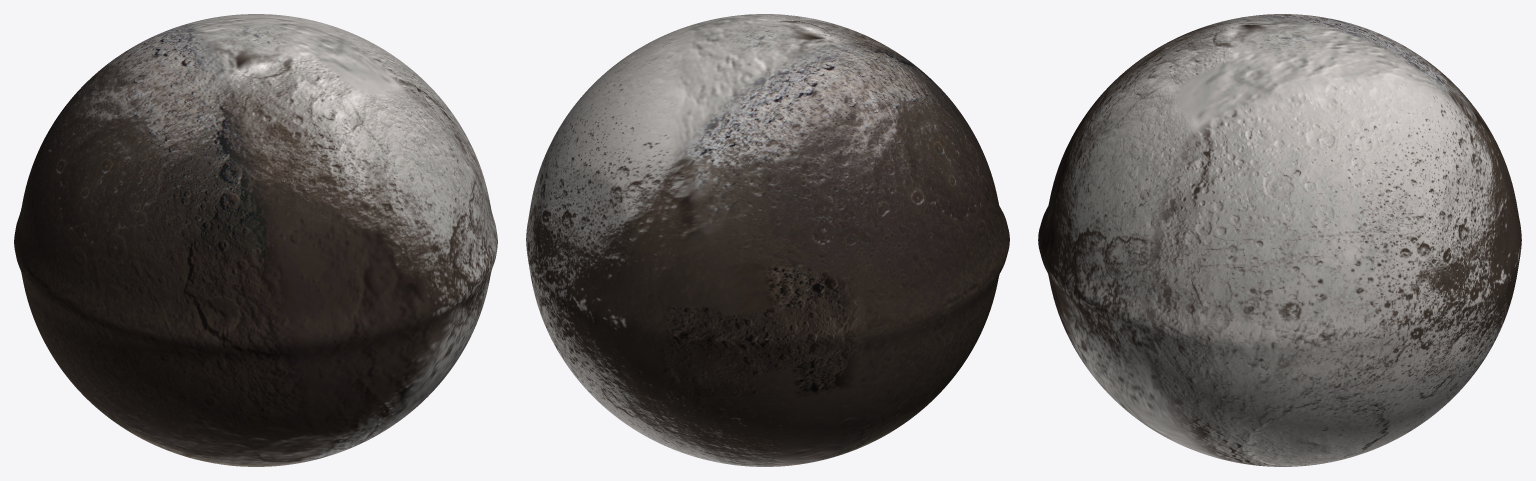
Rendered from iapetus.glb.
3 views of the same model, side by side, from view 1: azimuth 30°, elevation 25°; view 2: azimuth 150°, elevation 25°; view 3: azimuth 270°, elevation 25° (orthographic).
Parts seen in each view (by area): view 1: iapetus_globe; view 2: iapetus_globe; view 3: iapetus_globe.
Part boxes in pixels (x1,y1,x2,y2): iapetus_globe: (14,14,497,466); iapetus_globe: (526,14,1009,466); iapetus_globe: (1038,14,1521,466).
Bounding box in the file's own units: 2.06 × 1.91 × 2.06.
Materials: 1 (1 with a texture image).
